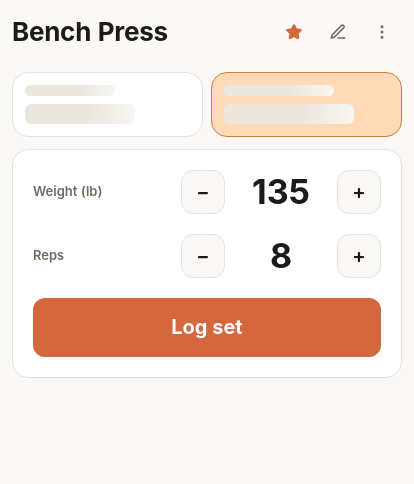
Test: ExerciseDetail in-flight visual feedback › shows the entered weight/reps for the very first set of a brand-new workout (no session yet) while its write is in flight
The width and height of the screenshot is (414, 484).
Click the button "Log set" at {"x": 207, "y": 328}, box top-left (33, 298), bottom-right (381, 357)
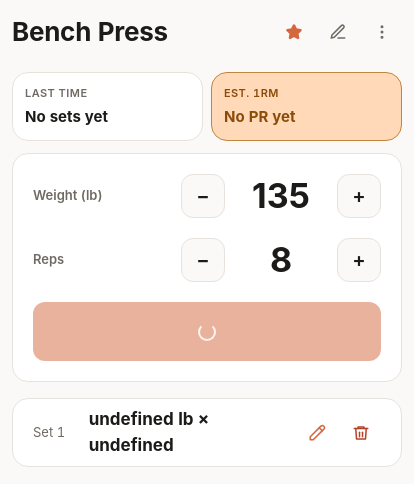
Check: the text "135 lb × 8" is shown, box top-left (89, 409), bottom-right (209, 454)
Check: the text "Saving" next to "undefined lb × undefined" is shown, box top-left (297, 412), bottom-right (381, 452)
Check: the button named "Edit" is shown, box top-left (297, 412), bottom-right (337, 452)
